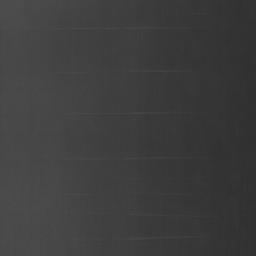Waist folding: (2, 26, 199, 31), (64, 111, 192, 117), (62, 156, 205, 161), (91, 70, 192, 76), (138, 193, 199, 201), (120, 235, 200, 241), (128, 213, 203, 218), (64, 192, 87, 197)
